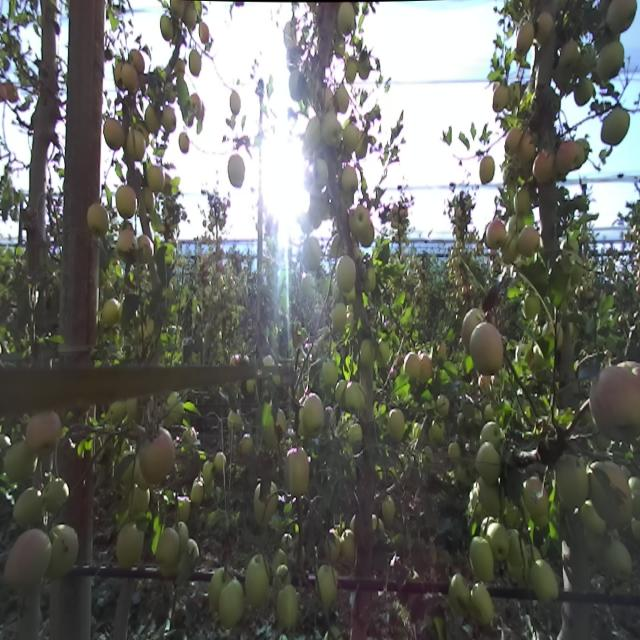apple: (588, 367, 640, 438), (590, 461, 634, 529), (5, 530, 50, 589), (141, 427, 174, 484), (555, 458, 588, 512), (470, 322, 502, 376), (26, 412, 60, 454), (51, 524, 78, 575), (530, 560, 559, 606), (284, 447, 311, 495), (115, 523, 143, 568), (218, 579, 245, 624), (156, 526, 180, 576), (474, 445, 502, 487), (470, 582, 495, 628), (601, 106, 629, 146), (468, 536, 494, 579), (246, 556, 269, 604), (14, 488, 42, 527), (5, 443, 36, 477), (254, 480, 277, 525), (608, 0, 638, 34), (598, 42, 624, 81), (607, 541, 632, 581), (264, 405, 285, 449), (303, 392, 323, 438), (524, 478, 548, 516), (43, 477, 69, 512), (476, 475, 501, 511), (447, 573, 470, 611), (209, 567, 230, 608), (462, 308, 484, 346), (317, 565, 338, 604), (582, 500, 605, 535), (278, 588, 298, 628), (488, 523, 509, 561), (507, 529, 528, 567), (336, 255, 357, 292), (532, 150, 555, 183), (556, 140, 576, 176), (116, 184, 136, 218), (88, 203, 108, 236), (117, 229, 137, 262), (480, 421, 502, 451), (322, 115, 342, 148), (104, 118, 124, 150), (127, 127, 147, 159), (302, 237, 322, 269), (129, 486, 151, 514), (520, 226, 540, 255), (340, 530, 357, 564), (338, 1, 355, 35), (346, 381, 364, 413), (577, 46, 596, 76), (560, 41, 578, 72), (228, 153, 244, 187), (182, 538, 199, 570), (164, 394, 182, 424), (536, 12, 554, 42), (376, 335, 392, 368), (517, 23, 534, 54), (486, 222, 505, 249), (388, 408, 404, 440), (342, 164, 358, 196), (148, 164, 165, 194), (273, 566, 290, 596), (102, 298, 120, 326), (575, 79, 593, 107), (628, 476, 640, 516), (514, 185, 531, 213), (122, 63, 138, 92), (354, 202, 368, 235), (137, 237, 157, 260), (404, 350, 419, 380), (501, 237, 519, 262), (419, 354, 435, 382), (505, 128, 521, 155), (524, 293, 540, 320), (120, 449, 132, 484), (323, 358, 338, 386), (480, 155, 494, 185), (348, 422, 362, 451), (361, 339, 375, 368), (289, 69, 303, 98), (162, 106, 177, 133), (493, 85, 508, 112), (175, 519, 188, 550), (331, 305, 347, 330), (326, 530, 340, 558), (145, 105, 160, 131), (133, 448, 143, 487), (228, 407, 242, 434), (314, 160, 328, 187), (160, 13, 173, 42), (336, 85, 349, 114), (130, 47, 144, 73), (344, 124, 358, 150), (358, 54, 372, 80), (522, 135, 536, 161), (577, 138, 591, 164), (334, 376, 346, 406), (320, 87, 334, 112), (190, 50, 202, 77), (344, 56, 356, 83), (360, 223, 374, 245), (384, 494, 394, 524), (142, 189, 155, 212), (190, 480, 203, 503), (272, 549, 286, 570), (364, 269, 376, 293), (170, 0, 184, 20), (574, 144, 584, 172), (510, 84, 522, 107), (189, 94, 202, 115), (230, 90, 241, 114), (185, 5, 197, 27), (202, 459, 214, 481), (507, 217, 522, 234), (215, 451, 226, 474), (533, 512, 551, 526), (114, 62, 124, 87), (630, 516, 640, 540), (198, 23, 210, 42), (244, 435, 254, 457), (180, 131, 190, 152), (344, 289, 357, 299), (207, 481, 215, 496)
